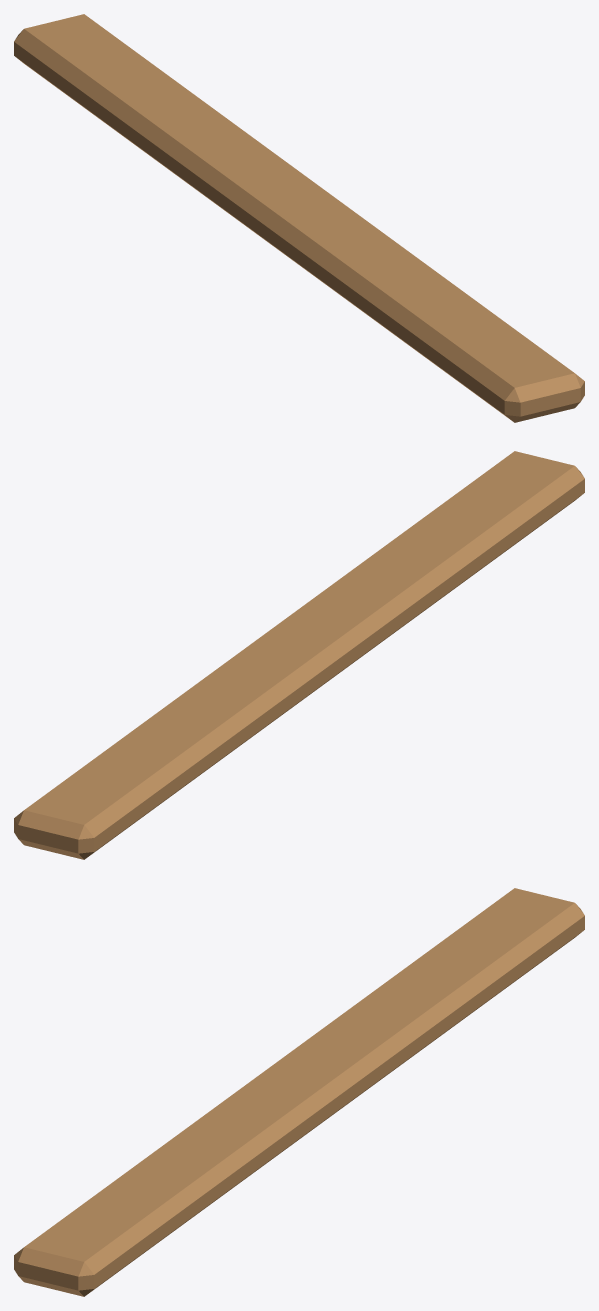
File: plank_held.glb
3 views of the same model, one above another, from view 1: azimuth 30°, elevation 25°; view 2: azimuth 150°, elevation 25°; view 3: azimuth 330°, elevation 25° (orthographic).
Parts seen in each view (by area): view 1: body; view 2: body; view 3: body.
Part boxes in pixels (x1,y1,x2,y2): body: (14,14,584,422); body: (14,451,584,859); body: (14,888,584,1296).
Bounding box in the file's own units: 0.12 × 0.05 × 1.3.
